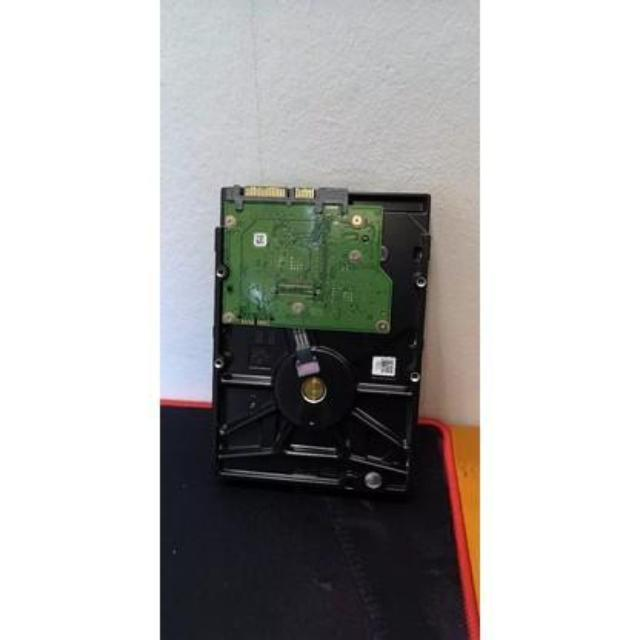DISK: (212, 180, 420, 494)
